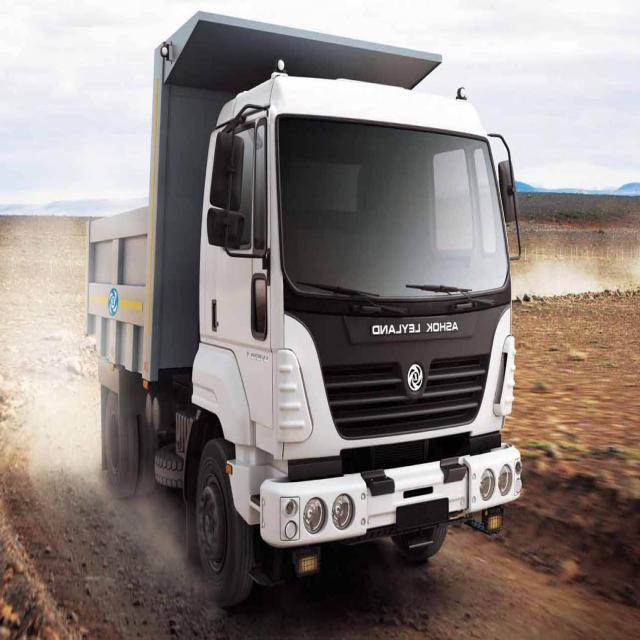truck: (86, 13, 521, 605)
